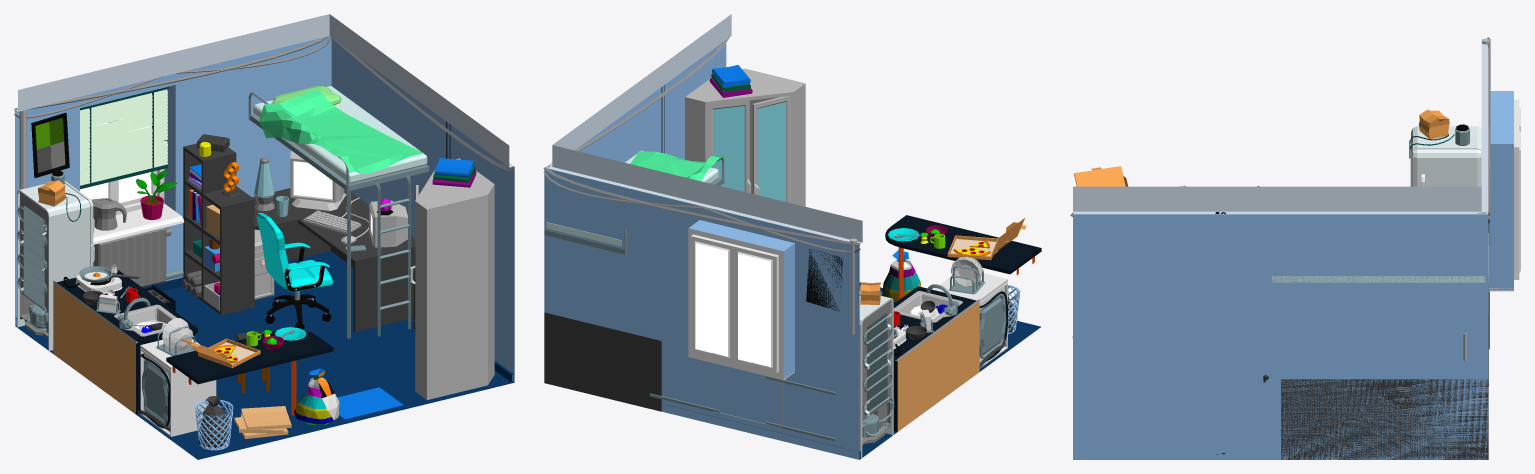
Rendered from room.glb.
The picture shows the model from 3 angles, left to right: view 1: azimuth 30°, elevation 25°; view 2: azimuth 150°, elevation 25°; view 3: azimuth 270°, elevation 25°; orthographic projection. The views are drawn at different scales.
Parts seen in each view (by area): view 1: Box010.001; view 2: Box010.001; view 3: Box010.001.
Part boxes in pixels (bbox=[...]): Box010.001: bbox=[14, 14, 514, 459]; Box010.001: bbox=[543, 14, 1041, 459]; Box010.001: bbox=[1070, 37, 1520, 459].
Size of the model in its own units: 1421 by 1024 by 1521.
Materials: 7 (1 with a texture image).
